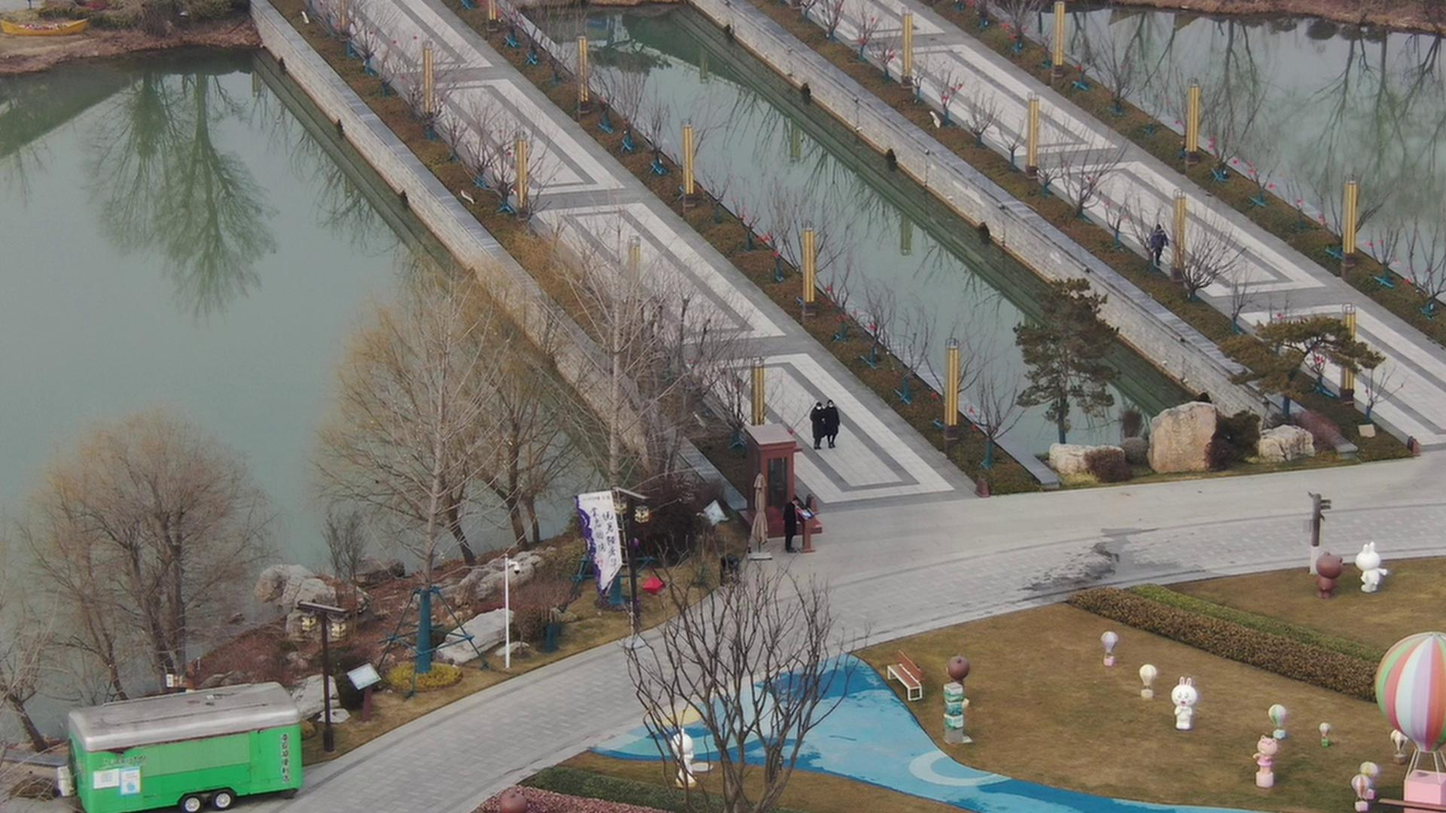class_2: (808, 396, 840, 457)
human: (776, 492, 801, 557)
